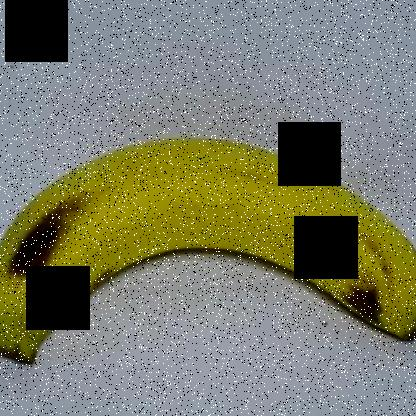freshripe: (1, 108, 415, 385)
